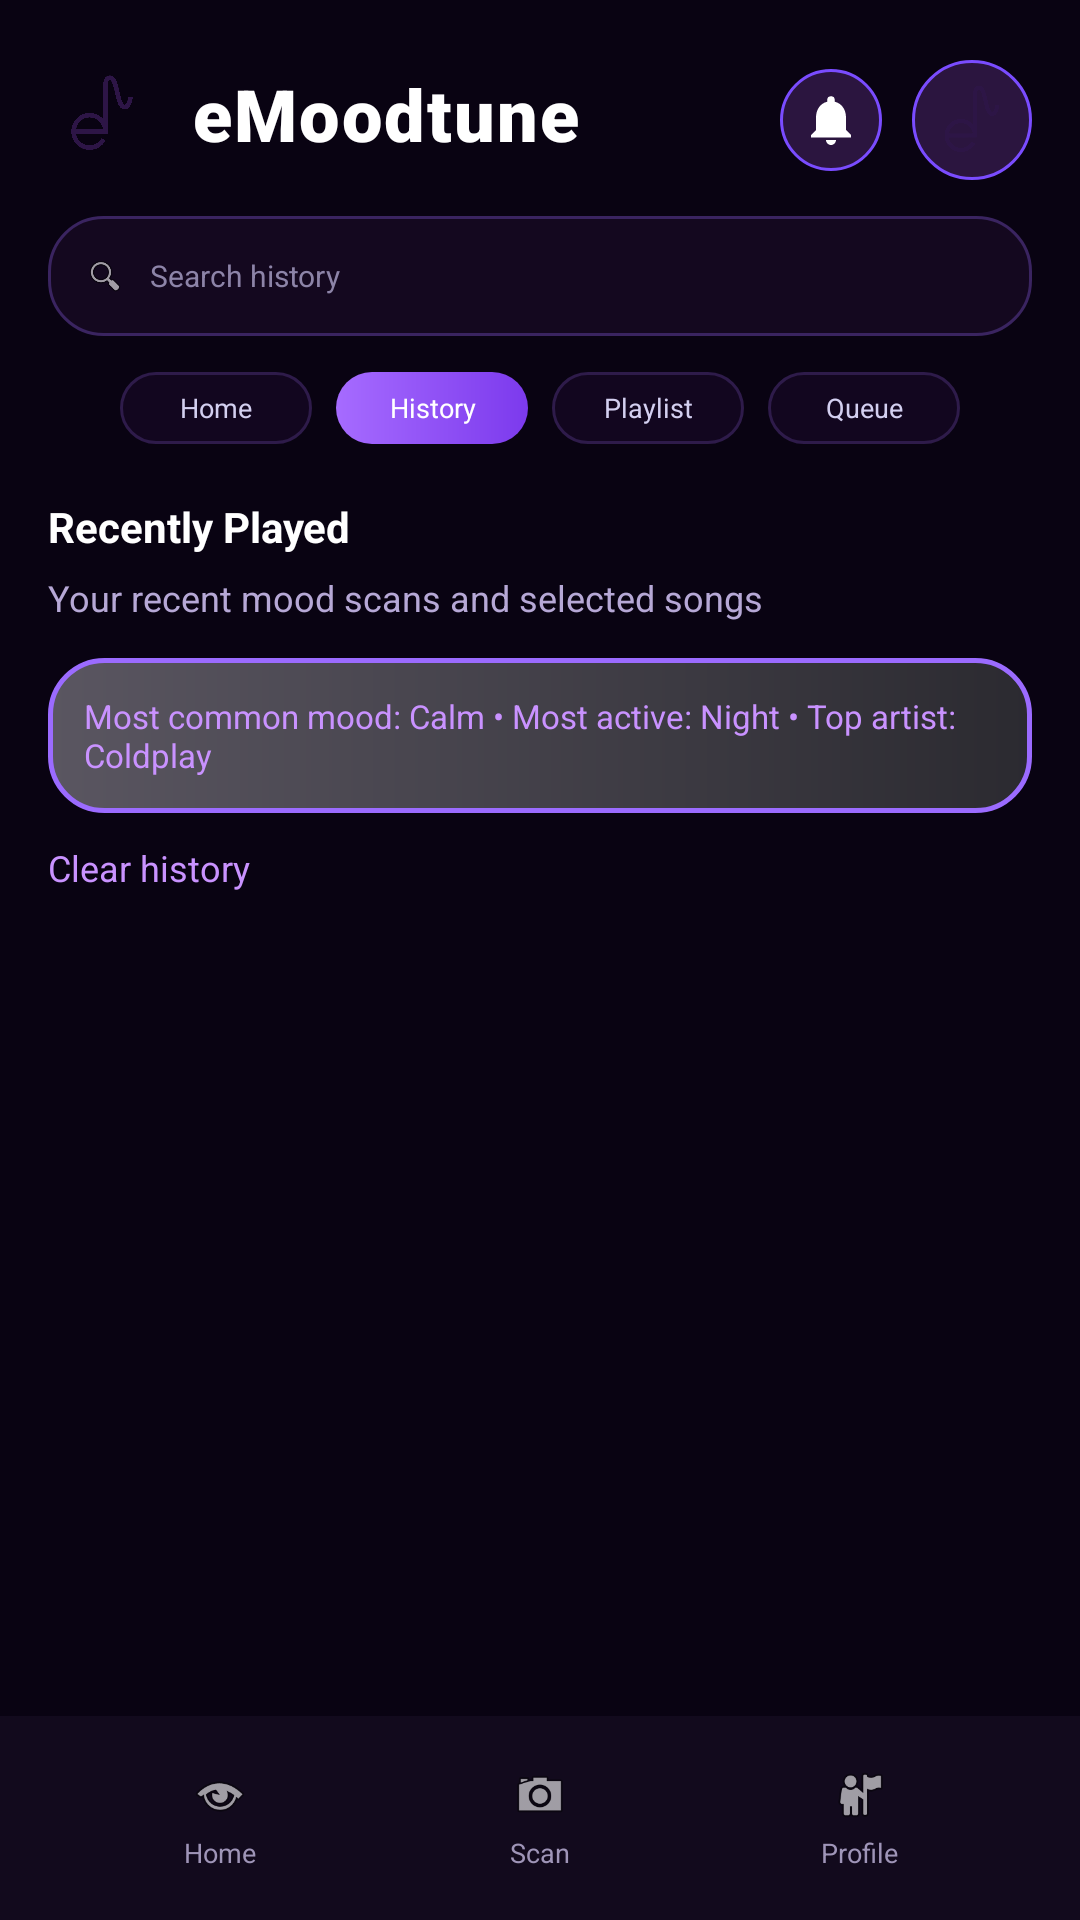

Locate icon controls on the screen. Image size 1080w x 1920h, boxes as bbox(x1, y1, x2, y2).
Notifications: bbox(780, 69, 882, 171)
